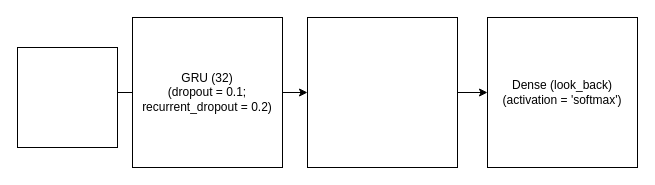
This 655x185 diagram has some shape labels left out. The shapes that lost their labels are listed below. From the top down, each one's box as (x1, y1, x2, y2) in pixels, then its label:
(16, 46, 118, 148): Input: (338713, 10, 13)
(306, 16, 458, 168): GRU (64) (dropout = 0.1; recurrent_dropout = 0.2)
